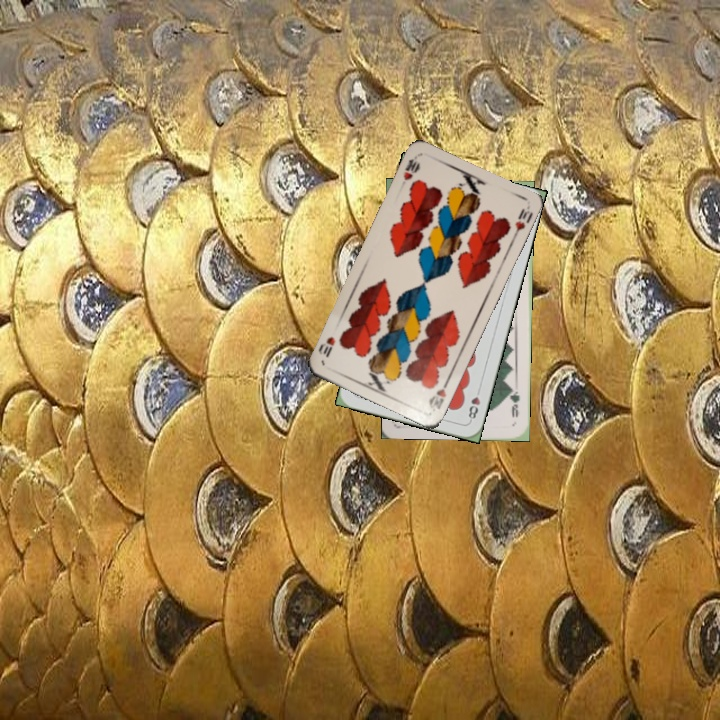G9: (506, 384, 522, 420)
H10: (425, 375, 451, 414), (396, 152, 422, 191)
H8: (464, 384, 483, 424)
